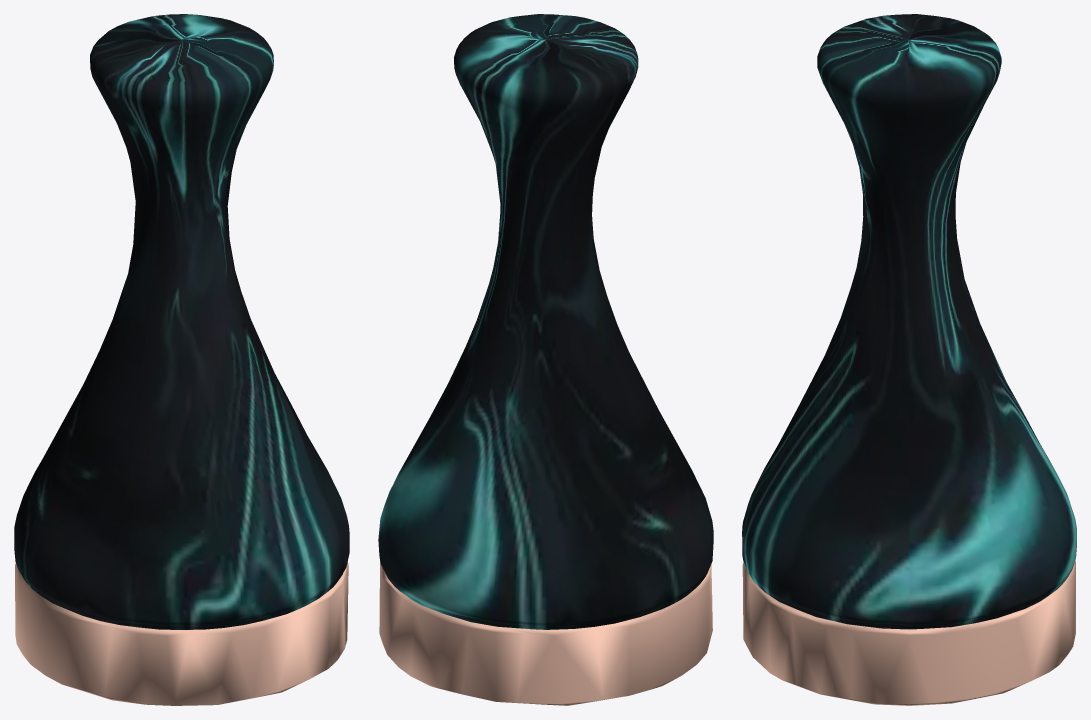
The model's file is strelec_cerna.glb.
The picture shows the model from 3 angles, left to right: view 1: azimuth 30°, elevation 25°; view 2: azimuth 150°, elevation 25°; view 3: azimuth 270°, elevation 25°; orthographic projection.
Visible parts, largest first — view 1: strelec_cerna; view 2: strelec_cerna; view 3: strelec_cerna.
Boxes of the visible parts, bbox=[...] form: strelec_cerna: bbox=[14, 14, 349, 705]; strelec_cerna: bbox=[378, 14, 713, 705]; strelec_cerna: bbox=[742, 14, 1076, 705].
Bounding box in the file's own units: 0.0583 × 0.1147 × 0.0582.
2 materials, 1 textured.
